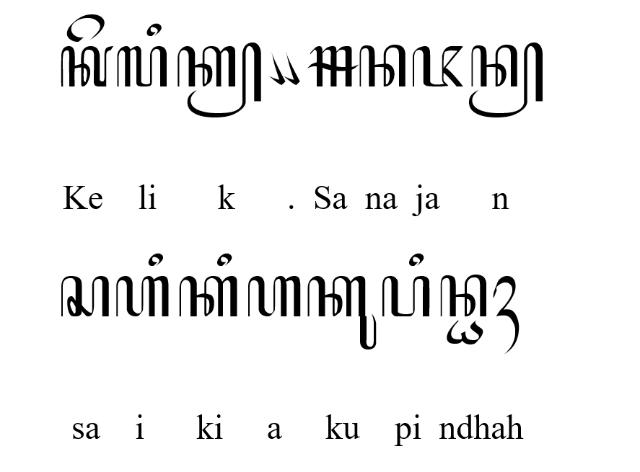-k: (176, 41, 262, 118)
-n: (468, 41, 544, 119)
K: (59, 44, 114, 87)
S: (308, 46, 360, 88)
_dh: (446, 318, 484, 346)
_h1: (492, 276, 520, 354)
e: (66, 14, 104, 43)
h: (115, 275, 171, 317), (246, 276, 302, 318)
i: (146, 252, 164, 268), (146, 22, 162, 38), (408, 252, 424, 268), (216, 253, 232, 267)
j: (411, 44, 463, 87)
k: (178, 276, 240, 318)
kom: (268, 51, 286, 85), (284, 50, 298, 86)
ku: (306, 276, 378, 350)
l: (116, 45, 168, 87)
n: (439, 274, 488, 318), (359, 44, 406, 87)
p: (381, 275, 431, 319)
s: (60, 276, 110, 318)
